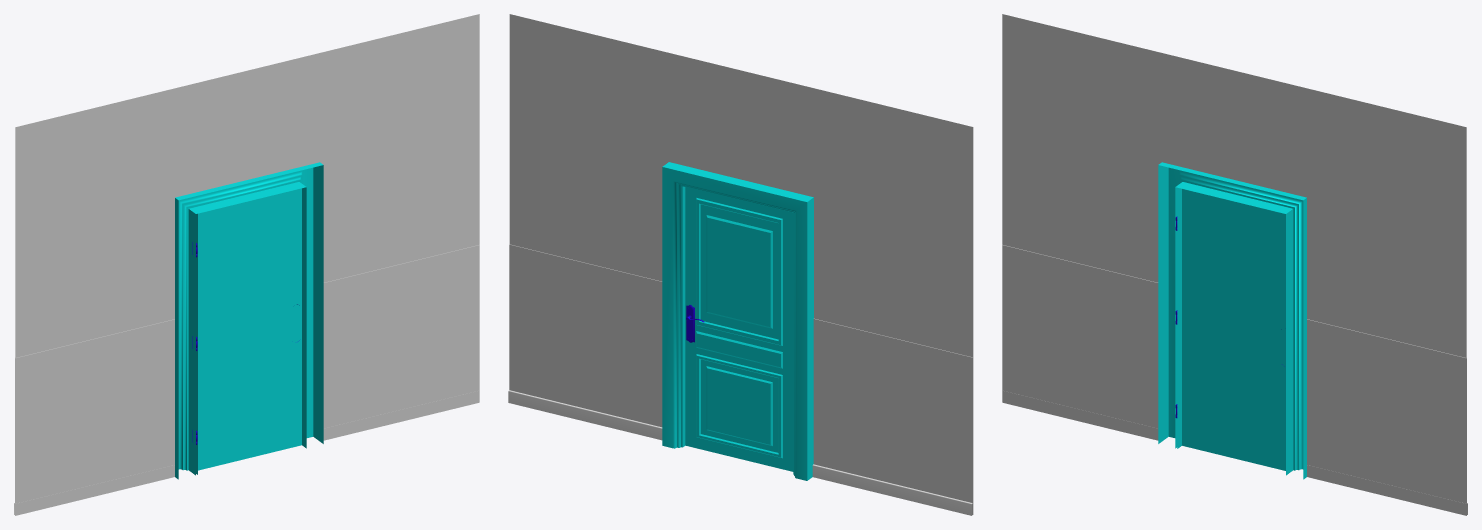
File: sm_door_wall.fbx
The picture shows the model from 3 angles, left to right: view 1: azimuth 30°, elevation 25°; view 2: azimuth 150°, elevation 25°; view 3: azimuth 330°, elevation 25°; orthographic projection.
Parts seen in each view (by area): view 1: sm_wall.001, sm_door, sm_doorframe; view 2: sm_wall.001, sm_tiled.002, sm_doorframe, sm_door, sm_door.004, sm_door.005, sm_skirting.001, sm_door.002, sm_door.003, sm_door.001; view 3: sm_wall.001, sm_door, sm_doorframe.
Part boxes in pixels (box(x1,y1,x2,y2)): sm_wall.001: box(15, 14, 479, 515); sm_door: box(196, 188, 301, 474); sm_doorframe: box(175, 162, 323, 479); sm_wall.001: box(509, 14, 973, 514); sm_tiled.002: box(509, 244, 972, 515); sm_doorframe: box(662, 162, 813, 480); sm_door: box(685, 187, 793, 471); sm_door.004: box(706, 215, 772, 328); sm_door.005: box(706, 366, 772, 445); sm_skirting.001: box(508, 390, 972, 515); sm_door.002: box(696, 198, 782, 345); sm_door.003: box(696, 354, 782, 458); sm_door.001: box(696, 331, 782, 368); sm_wall.001: box(1002, 14, 1466, 515); sm_door: box(1177, 187, 1285, 470); sm_doorframe: box(1158, 162, 1306, 479).
Size of the model in its own units: 400 by 320 by 15.82.
